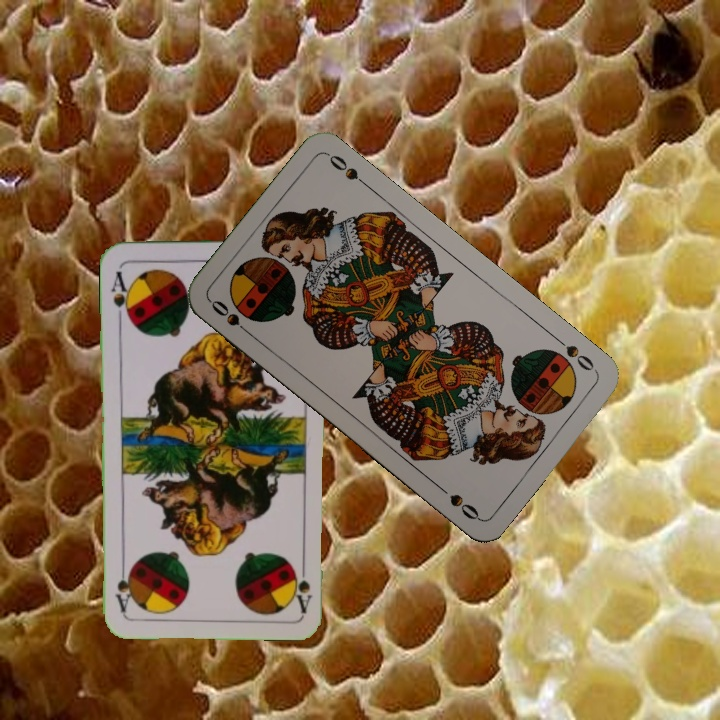SA: (107, 267, 133, 323), (291, 555, 315, 614)
SO: (207, 295, 256, 340), (550, 332, 600, 376)
